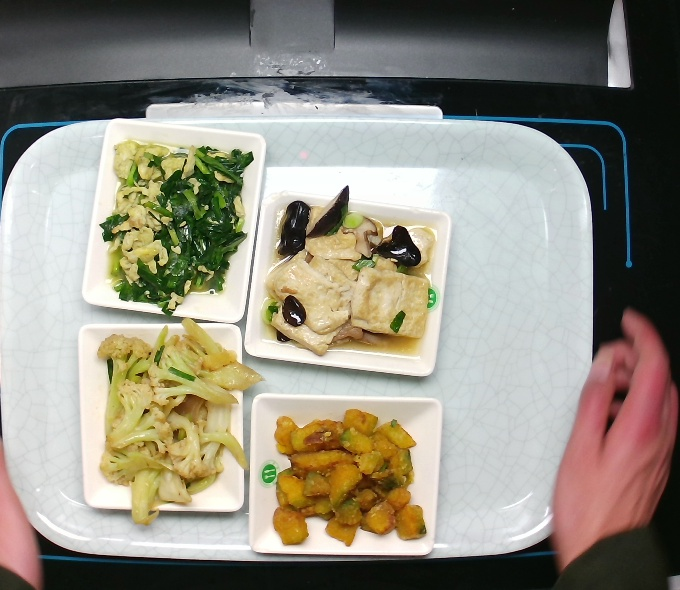wcq-DanHuangNanGua: (257, 412, 427, 549)
wcq-JiaChangDouFu: (263, 184, 436, 356)
wcq-JiuCaiJiDan: (100, 132, 245, 315)
wcq-QiuCai: (94, 319, 250, 530)
